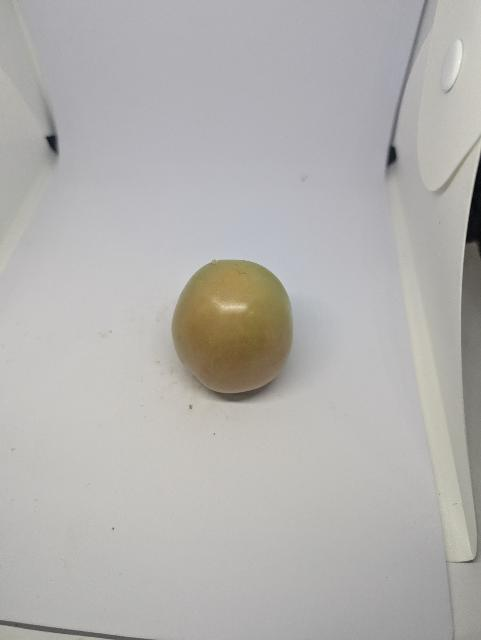breaker: (172, 260, 293, 393)
